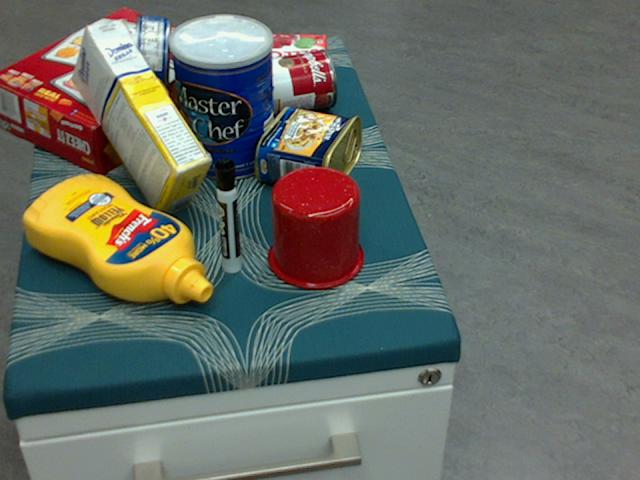cracker_box: (0, 9, 227, 176)
gelatin_box: (253, 34, 326, 80)
large_marker: (213, 157, 240, 271)
master_chef_can: (170, 13, 275, 180)
mug: (265, 164, 363, 288)
mustard_bottle: (23, 175, 212, 303)
potted_meat_can: (255, 104, 361, 199)
sugar_box: (73, 20, 214, 216)
tomato_soup_can: (237, 47, 337, 119)
tuna_fish_can: (133, 13, 170, 98)
